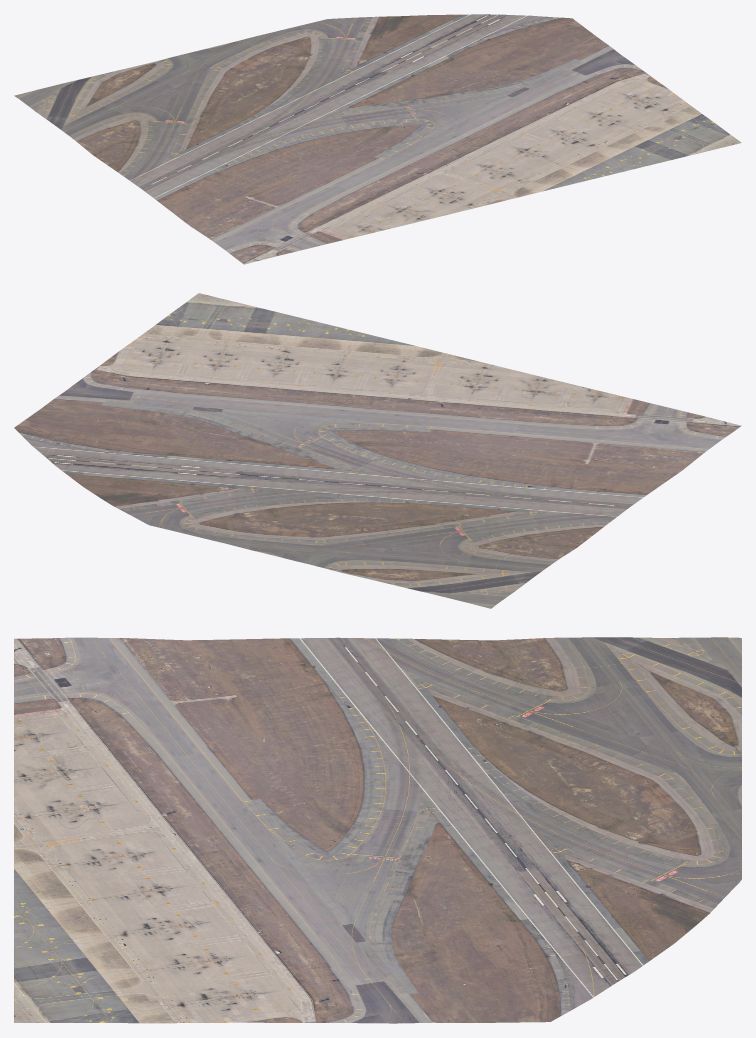
Rendered from terrain_05.glb.
3 renders of one model, top to bottom at view 1: azimuth 30°, elevation 25°; view 2: azimuth 150°, elevation 25°; view 3: azimuth 270°, elevation 25°, orthographic. The views are drawn at different scales.
Parts seen in each view (by area): view 1: T09750180000106E10.001; view 2: T09750180000106E10.001; view 3: T09750180000106E10.001.
Boxes of the visible parts, x1,y1,x2,y2 form: T09750180000106E10.001: (14, 14, 741, 264); T09750180000106E10.001: (14, 293, 741, 608); T09750180000106E10.001: (14, 637, 741, 1023).
Bounding box in the file's own units: 750 × 3.5 × 600.
Materials: 1 (1 with a texture image).
